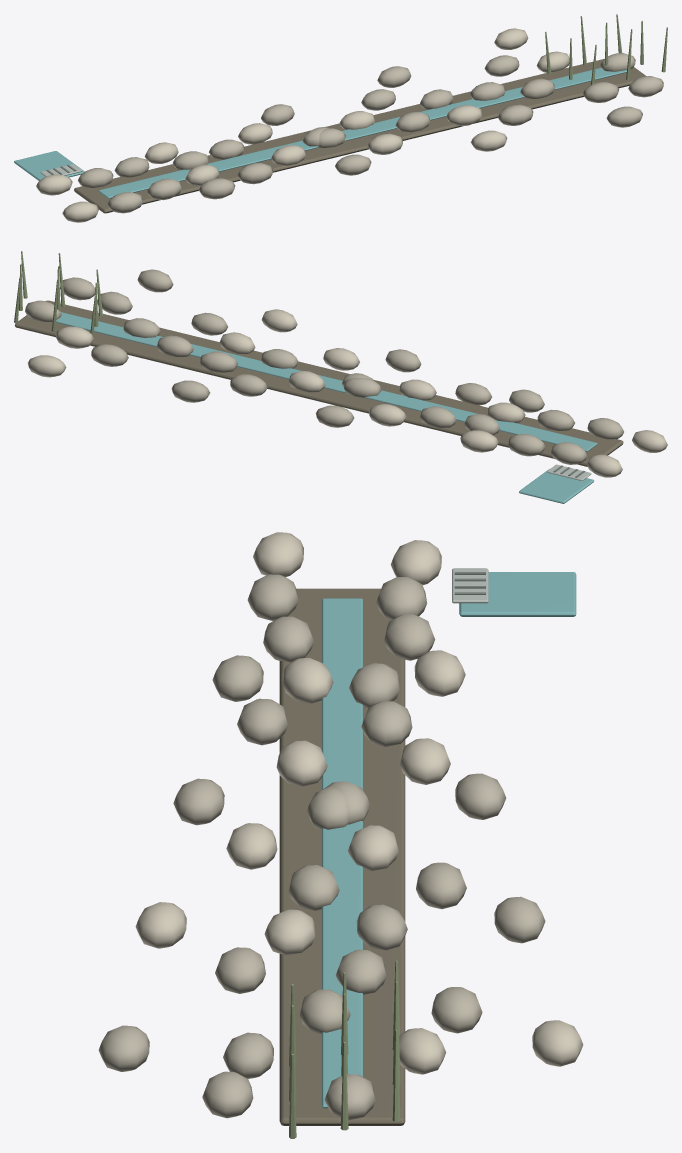
Rendered from backyard_overflow.glb.
3 views of the same model, one above another, from view 1: azimuth 30°, elevation 25°; view 2: azimuth 150°, elevation 25°; view 3: azimuth 270°, elevation 25° (orthographic). The views are drawn at different scales.
Parts seen in each view (by area): view 1: Rain garden dark earth, Still water in the runnel, Outlet splash pad, Rounded creek stone.018, Rounded creek stone, Rounded creek stone.022, Rounded creek stone.026, Rounded creek stone.030, Rounded creek stone.034, Rounded creek stone.016, Rounded creek stone.012, Rounded creek stone.035 (+26 smaller); view 2: Rain garden dark earth, Still water in the runnel, Outlet splash pad, Rounded creek stone.007, Rounded creek stone.011, Rounded creek stone.033, Rounded creek stone.015, Rounded creek stone.003, Rounded creek stone.010, Rounded creek stone.014, Rounded creek stone.006, Rounded creek stone.002 (+26 smaller); view 3: Rain garden dark earth, Still water in the runnel, Outlet splash pad, Rounded creek stone.011, Rounded creek stone.015, Rounded creek stone.030, Rounded creek stone.026, Rounded creek stone.034, Rounded creek stone.003, Rounded creek stone.022, Rounded creek stone.007, Rounded creek stone.031 (+28 smaller).
Boxes of the visible parts, left/top/right/bottom form: Rain garden dark earth: left=74, top=59, right=646, bottom=213; Still water in the runnel: left=98, top=68, right=626, bottom=198; Outlet splash pad: left=14, top=151, right=84, bottom=180; Rounded creek stone.018: left=62, top=201, right=98, bottom=222; Rounded creek stone: left=36, top=174, right=72, bottom=195; Rounded creek stone.022: left=199, top=178, right=235, bottom=199; Rounded creek stone.026: left=335, top=154, right=371, bottom=175; Rounded creek stone.030: left=470, top=130, right=507, bottom=151; Rounded creek stone.034: left=606, top=106, right=642, bottom=127; Rounded creek stone.016: left=582, top=82, right=619, bottom=102; Rounded creek stone.012: left=446, top=105, right=482, bottom=126; Rounded creek stone.035: left=628, top=76, right=663, bottom=97; Rain garden dark earth: left=15, top=300, right=623, bottom=466; Still water in the runnel: left=56, top=312, right=597, bottom=451; Outlet splash pad: left=519, top=469, right=594, bottom=503; Rounded creek stone.007: left=315, top=405, right=354, bottom=427; Rounded creek stone.011: left=171, top=380, right=210, bottom=402; Rounded creek stone.033: left=55, top=326, right=93, bottom=348; Rounded creek stone.015: left=27, top=355, right=66, bottom=377; Rounded creek stone.003: left=460, top=430, right=498, bottom=452; Rounded creek stone.010: left=230, top=374, right=267, bottom=396; Rounded creek stone.014: left=91, top=344, right=128, bottom=366; Rounded creek stone.006: left=369, top=404, right=406, bottom=426; Rounded creek stone.002: left=508, top=434, right=545, bottom=456; Rain garden dark earth: left=279, top=588, right=405, bottom=1125; Still water in the runnel: left=322, top=598, right=362, bottom=1108; Outlet splash pad: left=459, top=572, right=576, bottom=616; Rounded creek stone.011: left=494, top=896, right=545, bottom=943; Rounded creek stone.015: left=532, top=1020, right=583, bottom=1066; Rounded creek stone.030: left=135, top=902, right=186, bottom=948; Rounded creek stone.026: left=173, top=778, right=224, bottom=825; Rounded creek stone.034: left=98, top=1025, right=149, bottom=1071; Rounded creek stone.003: left=414, top=650, right=465, bottom=696; Rounded creek stone.022: left=212, top=655, right=263, bottom=701; Rounded creek stone.007: left=455, top=773, right=506, bottom=819; Rounded creek stone.031: left=215, top=947, right=265, bottom=993.
Size of the model in its own units: 6.47 by 0.5504 by 2.24.
